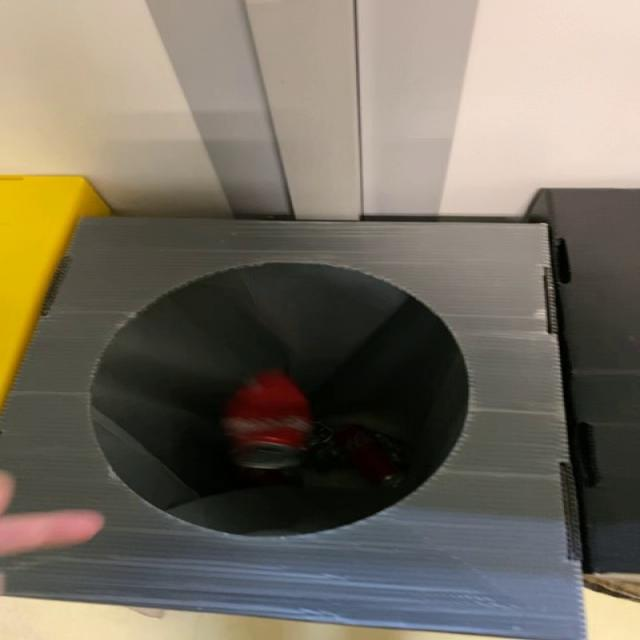bin: (1, 219, 587, 640)
metal: (221, 370, 313, 470)
